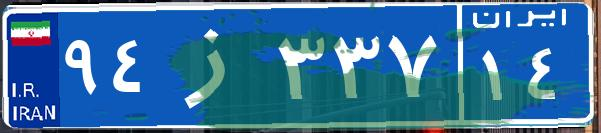1: (475, 38, 525, 113)
3: (273, 28, 330, 110), (330, 28, 385, 110)
4: (110, 28, 158, 105), (525, 38, 570, 115)
7: (385, 28, 445, 110)
9: (57, 26, 110, 107)
ز: (158, 15, 273, 115)
